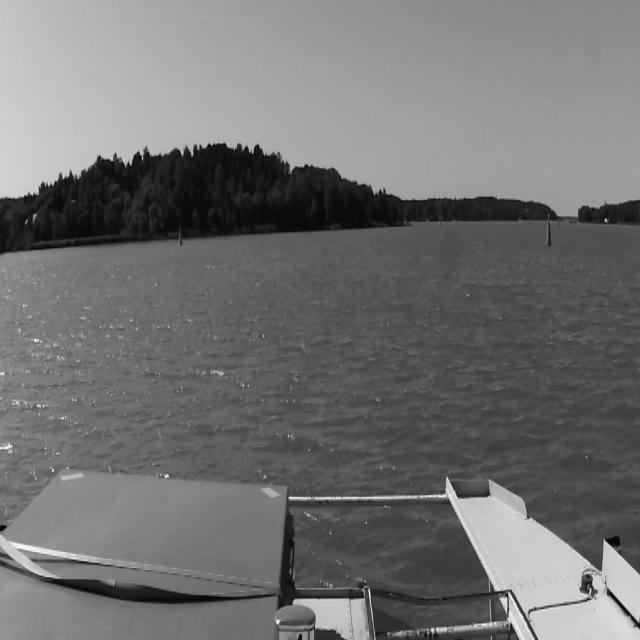buoy: (545, 218, 553, 244), (177, 227, 183, 247)
